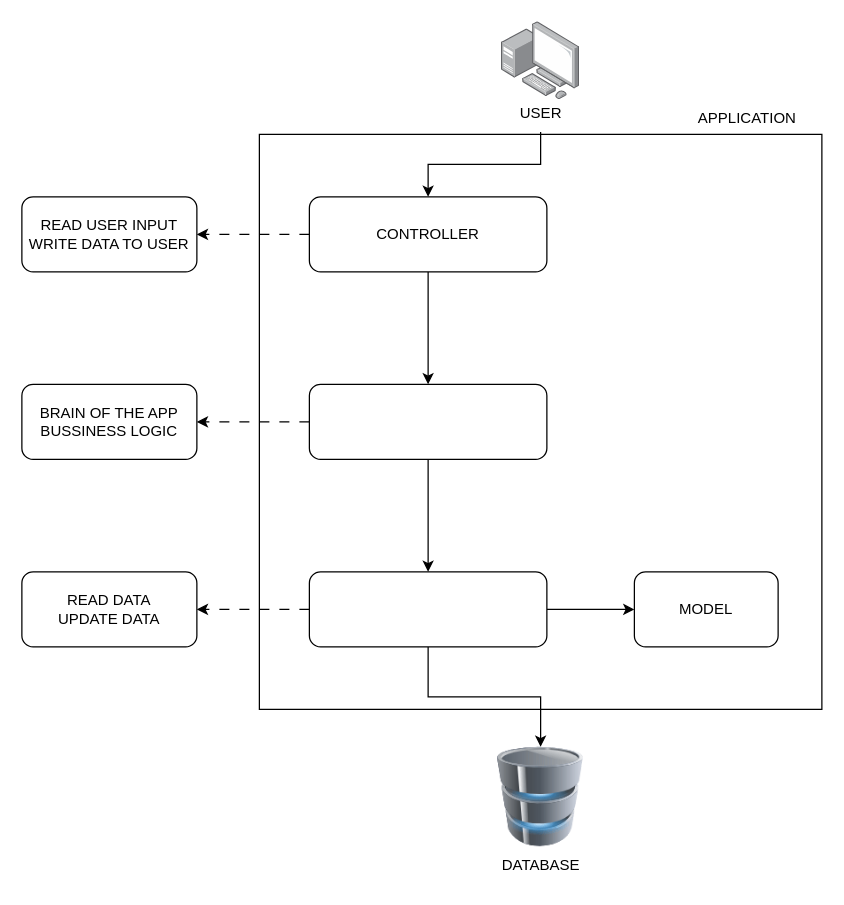
The diagram is 844 pixels wide and 905 high, and some of its shapes have lost their labels. Here are the shapes that lost their labels. From the top down, the centre of each, then its label:
the point at 427,421: SERVICE
the point at 427,609: REPOSITORY
